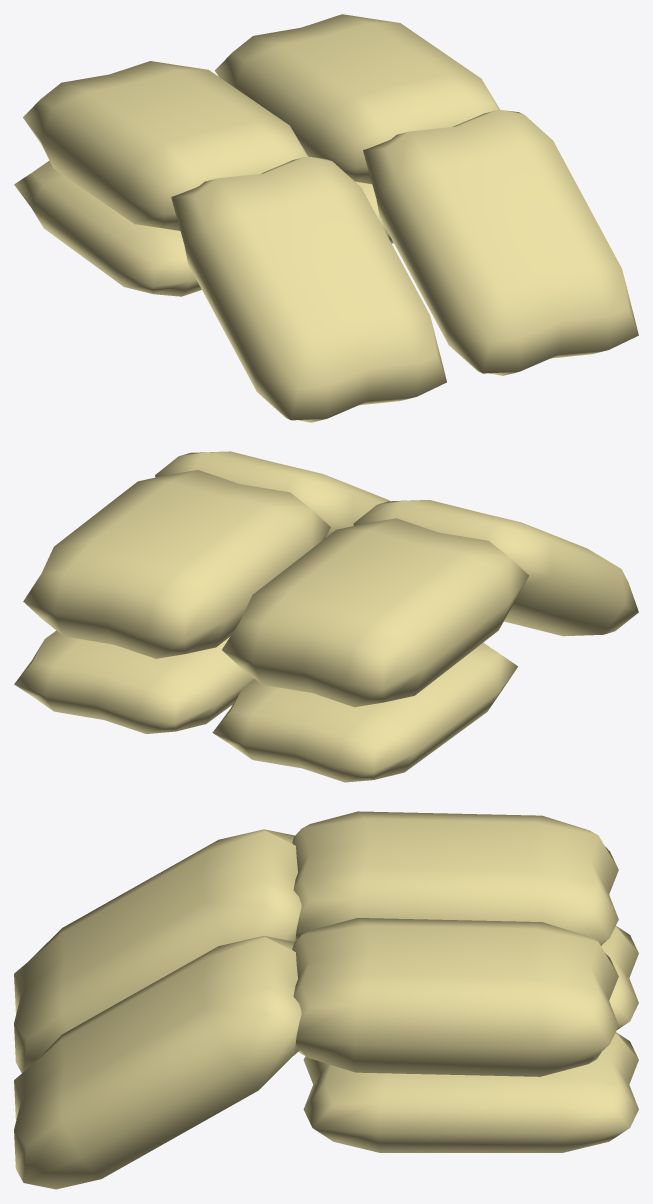
File: Mishki.fbx
3 views of the same model, one above another, from view 1: azimuth 30°, elevation 25°; view 2: azimuth 150°, elevation 25°; view 3: azimuth 270°, elevation 25° (orthographic). The views are drawn at different scales.
Parts seen in each view (by area): view 1: Box064, Box065, Box062, Box063, Box060; view 2: Box062, Box063, Box060, Box061, Box064, Box065; view 3: Box063, Box065, Box062, Box064, Box061, Box060.
Boxes of the visible parts, x1,y1,x2,y2 form: Box064: (171, 156, 446, 422); Box065: (363, 109, 638, 375); Box062: (23, 61, 308, 230); Box063: (214, 14, 499, 183); Box060: (14, 160, 201, 296); Box062: (222, 518, 529, 707); Box063: (23, 470, 330, 658); Box060: (212, 642, 517, 782); Box061: (14, 630, 254, 733); Box064: (353, 500, 638, 636); Box065: (155, 451, 390, 538); Box063: (292, 918, 618, 1076); Box065: (14, 936, 301, 1189); Box062: (292, 811, 618, 945); Box064: (14, 829, 301, 1072); Box061: (303, 1032, 638, 1152); Box060: (601, 926, 638, 1029).
Bounding box in the file's own units: 0.4302 × 0.1966 × 0.538.
